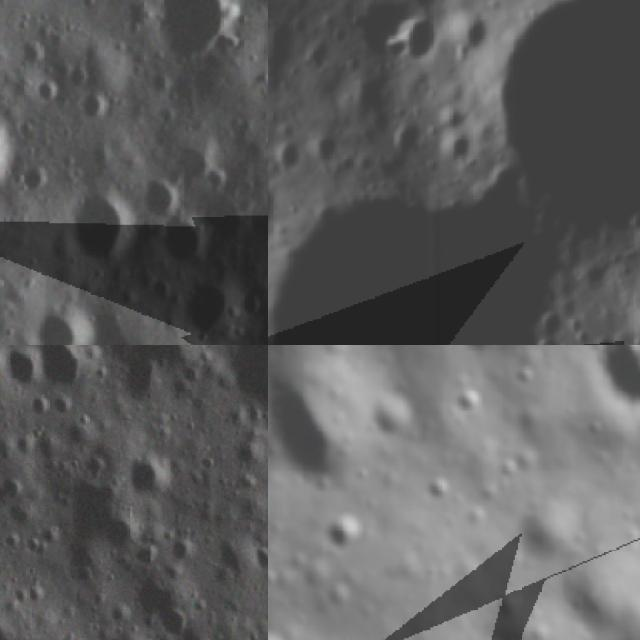crater: (384, 0, 640, 245), (268, 212, 565, 345), (54, 182, 140, 275), (140, 0, 240, 72), (61, 472, 143, 554), (162, 266, 245, 345), (150, 133, 224, 206), (580, 345, 640, 427), (187, 190, 253, 255), (362, 382, 417, 453), (154, 215, 215, 276), (24, 304, 104, 345), (224, 345, 268, 419), (0, 97, 26, 216), (134, 174, 188, 228), (64, 86, 120, 136), (392, 14, 443, 65), (442, 6, 493, 56), (9, 160, 62, 208), (35, 345, 90, 391), (125, 452, 176, 501), (323, 509, 368, 558), (0, 345, 49, 389), (150, 345, 204, 384), (444, 378, 487, 423), (309, 128, 353, 171), (418, 466, 461, 510), (437, 126, 476, 172), (20, 74, 60, 111), (388, 114, 425, 153), (268, 141, 304, 178), (434, 100, 471, 136), (10, 35, 47, 70), (155, 607, 193, 640), (128, 540, 162, 572), (166, 531, 198, 565), (103, 622, 154, 640), (246, 539, 268, 574), (534, 336, 563, 345)
